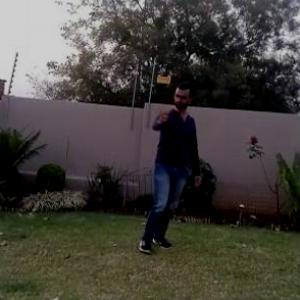takeoff-hand: (153, 100, 175, 129)
